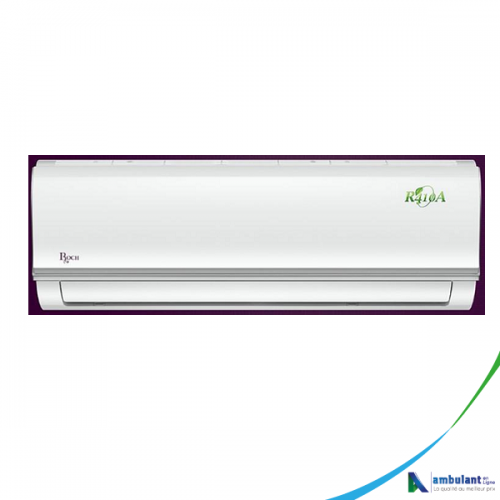ac: (30, 156, 484, 313)
